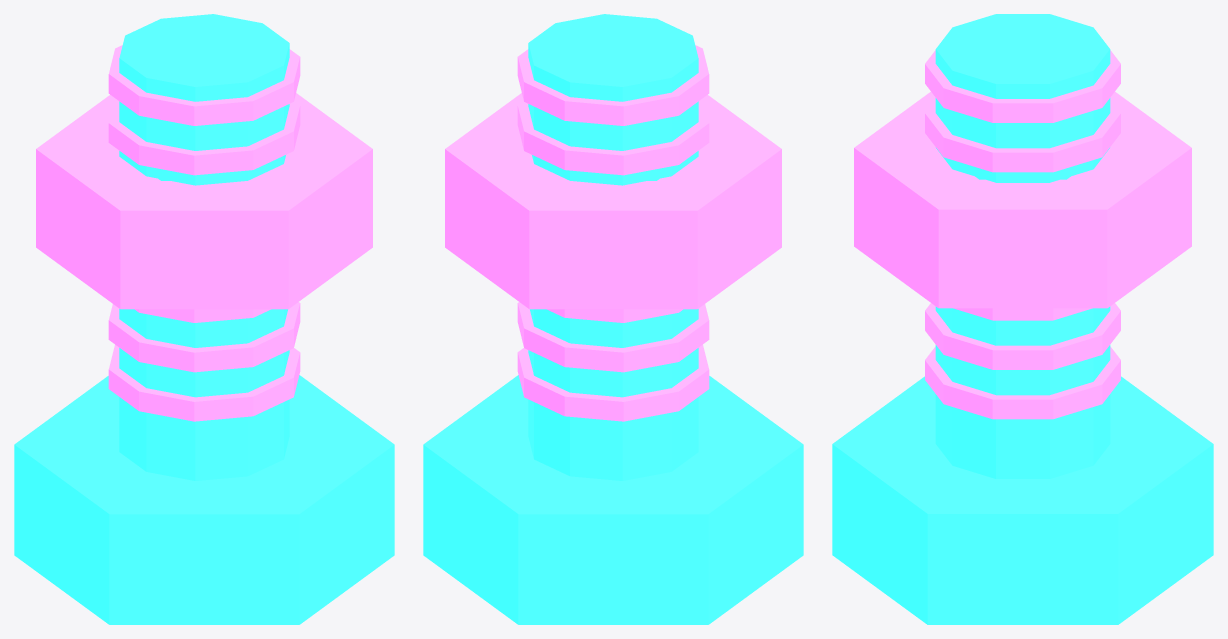
The model's file is item_bolt_neon.fbx.
3 views of the same model, side by side, from view 1: azimuth 30°, elevation 25°; view 2: azimuth 150°, elevation 25°; view 3: azimuth 270°, elevation 25° (orthographic).
Visible parts, largest first — view 1: item_bolt_neon; view 2: item_bolt_neon; view 3: item_bolt_neon.
Boxes of the visible parts, x1,y1,x2,y2 form: item_bolt_neon: (14, 14, 394, 624); item_bolt_neon: (423, 14, 803, 624); item_bolt_neon: (832, 14, 1213, 624).
Size of the model in its own units: 1.21 by 2.05 by 1.4.
